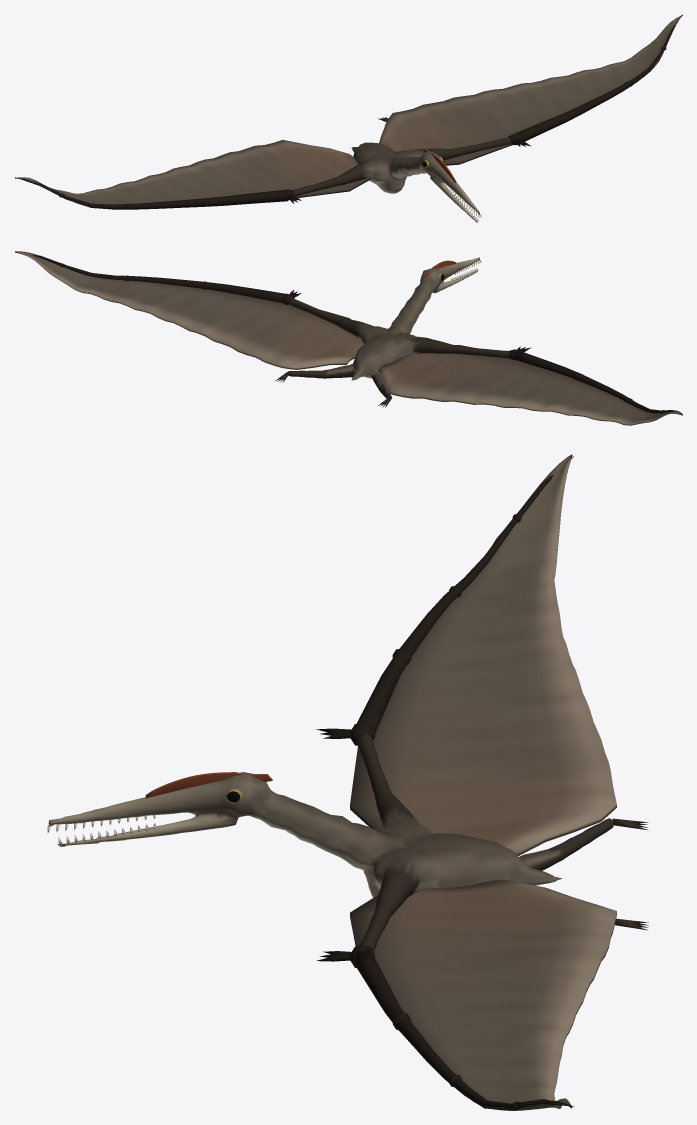
The model's file is Pterodactylus.fbx.
3 views of the same model, one above another, from view 1: azimuth 30°, elevation 25°; view 2: azimuth 150°, elevation 25°; view 3: azimuth 270°, elevation 25° (orthographic). The views are drawn at different scales.
Visible parts, largest first — view 1: Pterodactylus; view 2: Pterodactylus; view 3: Pterodactylus.
Boxes of the visible parts, left/top/right/bottom form: Pterodactylus: left=15, top=15, right=682, bottom=222; Pterodactylus: left=15, top=251, right=682, bottom=425; Pterodactylus: left=47, top=454, right=648, bottom=1110.
Bounding box in the file's own units: 1.7 × 0.1701 × 0.6632.
